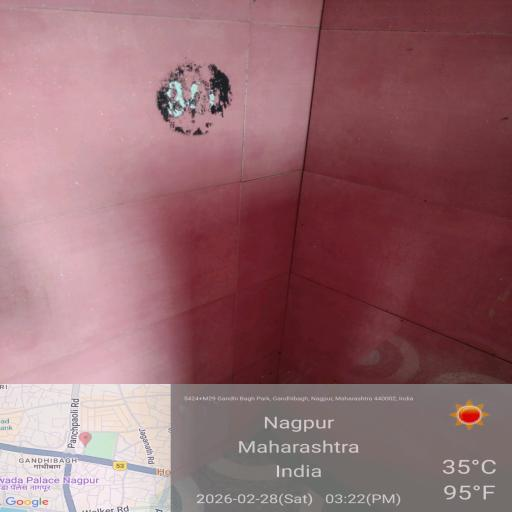clean_floor: (38, 4, 466, 466)
